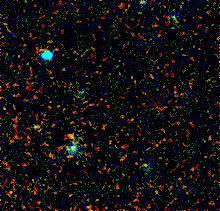star: (54, 117, 84, 147)
